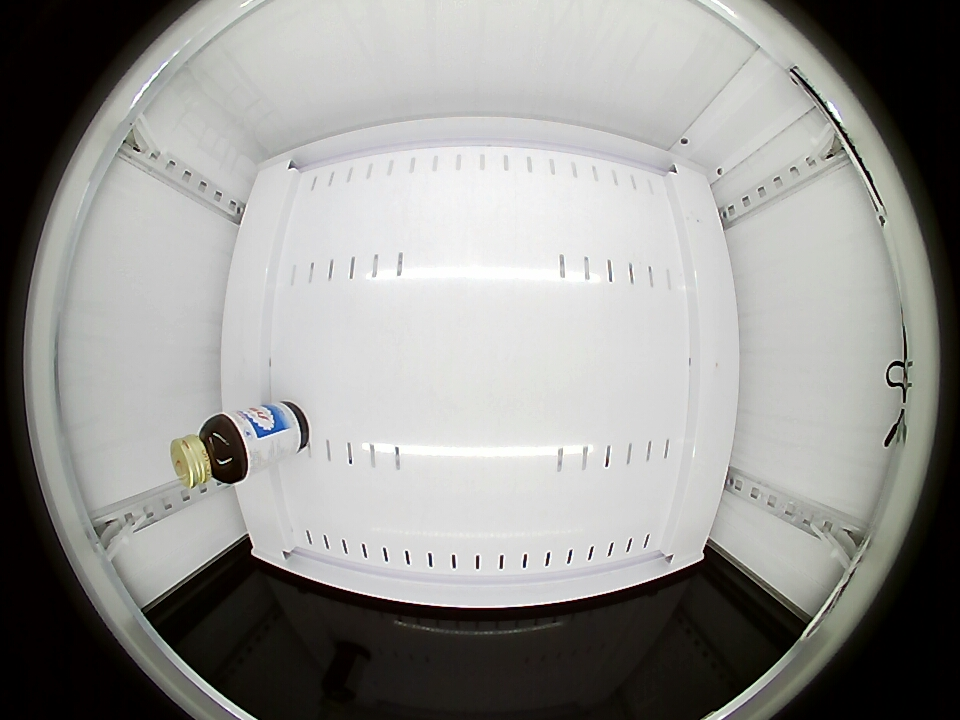libaojian: (170, 414, 248, 489)
